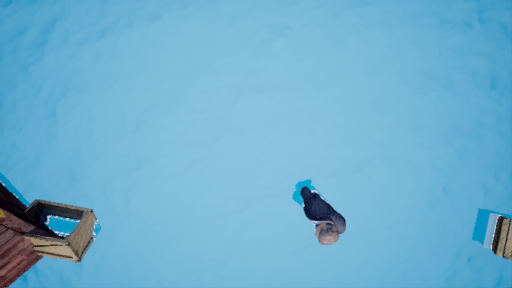person: (290, 179, 354, 249)
